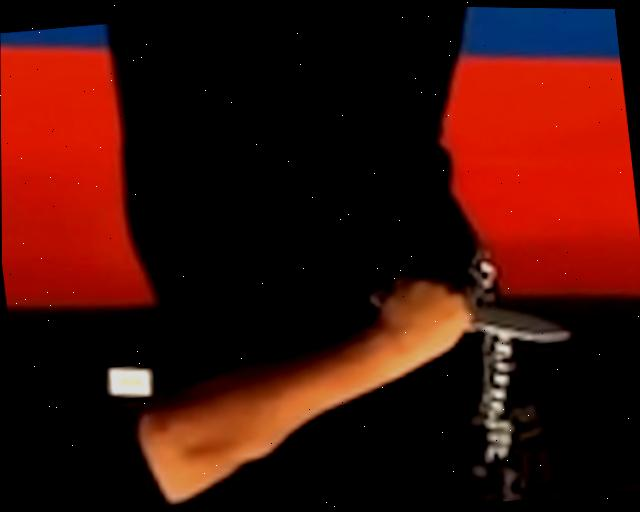pocket-knife: (352, 255, 577, 359)
